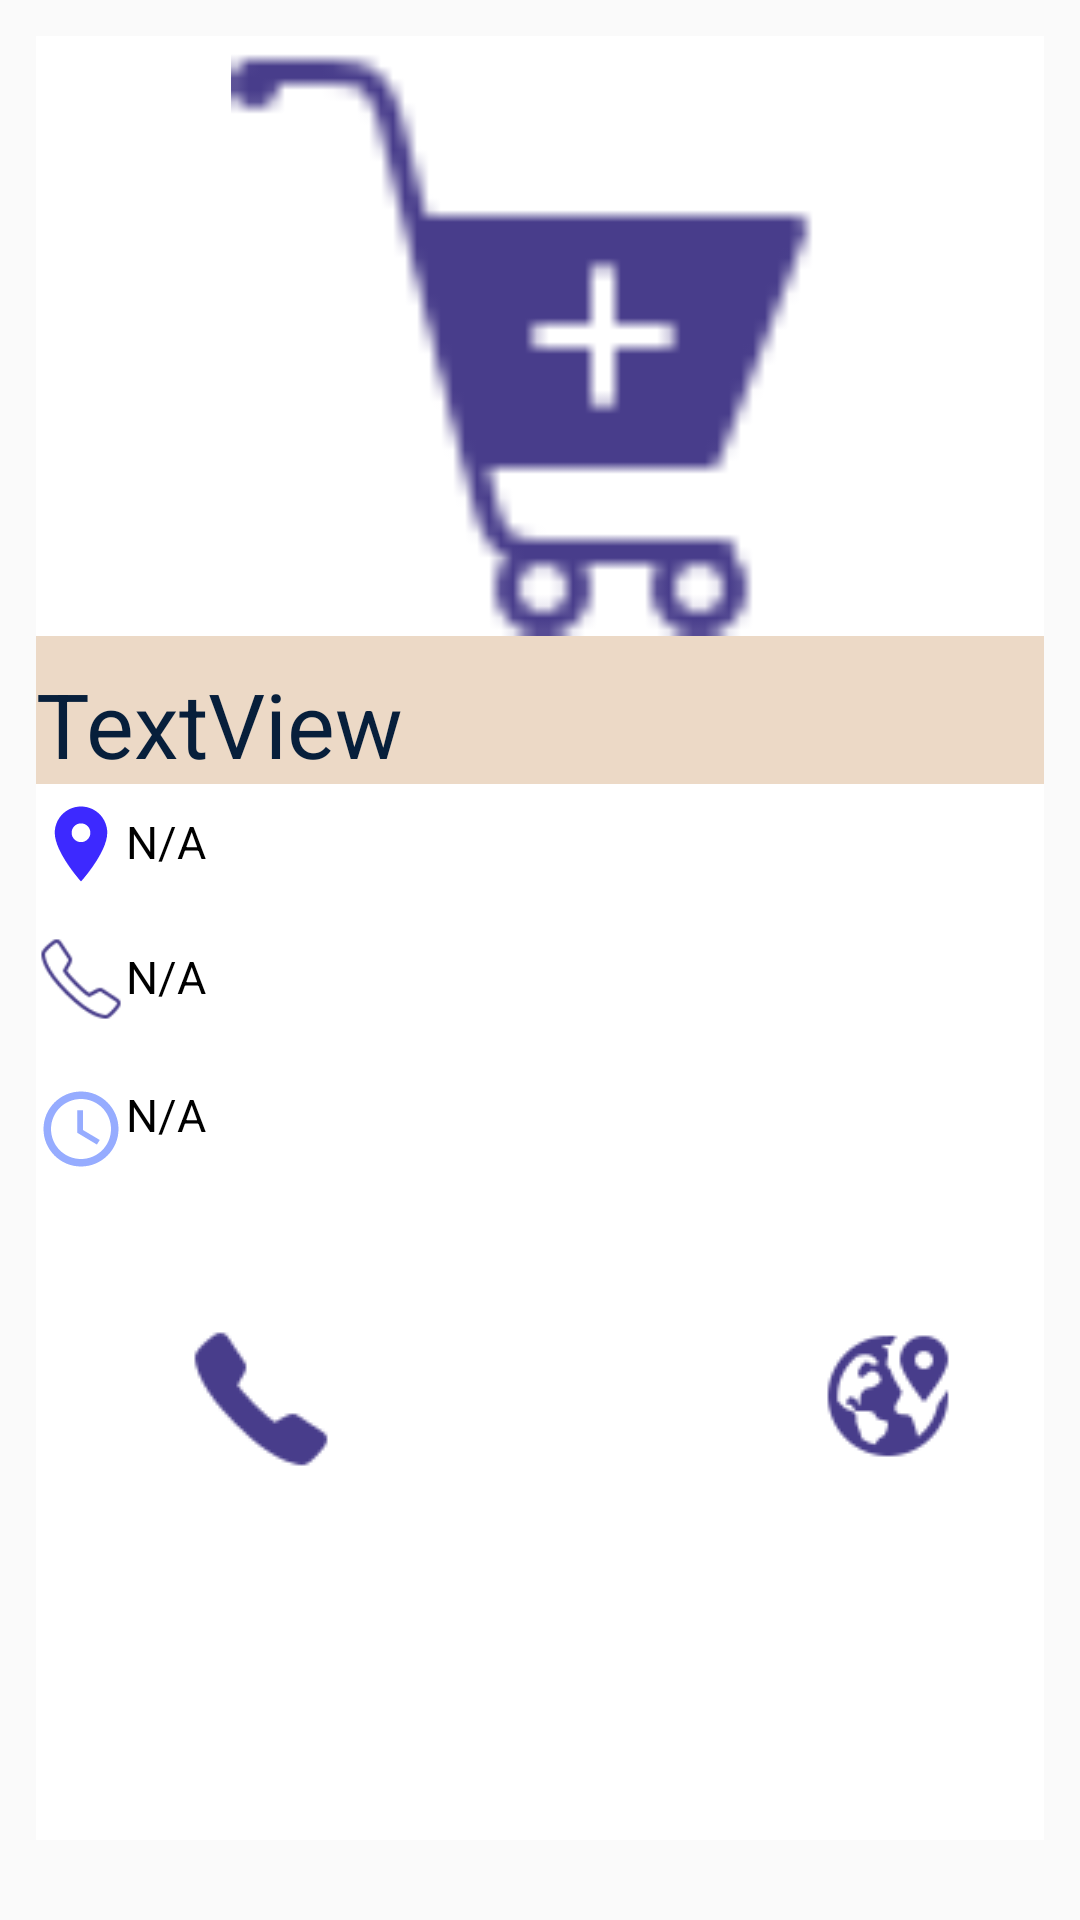

Icons on this 1080 × 1920 Android screen, each with the point to tap as [x,y]:
access time: [81,1129]
location on: [81,843]
locationcurrent: [888,1396]
